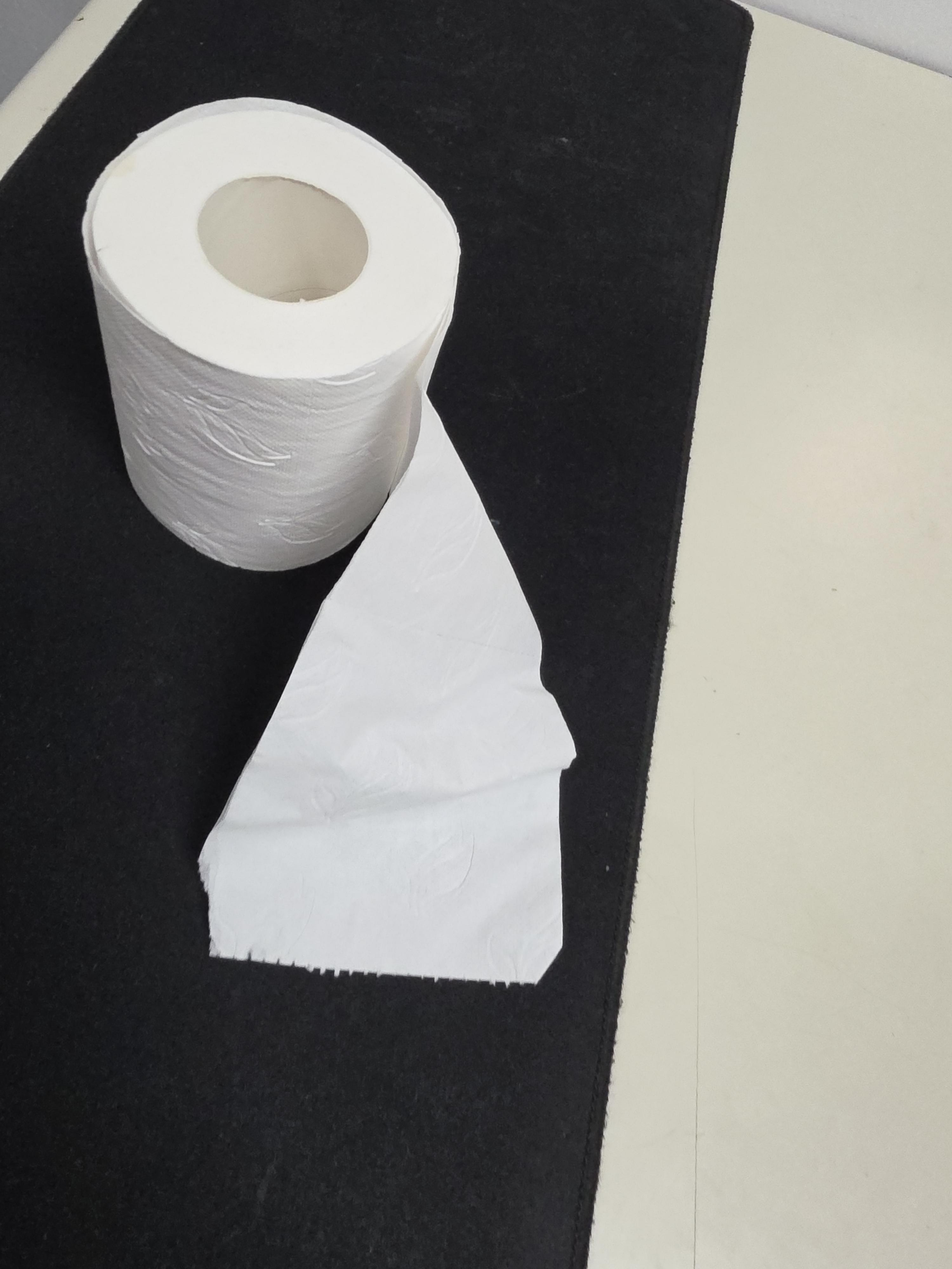tissue: (81, 97, 576, 986)
